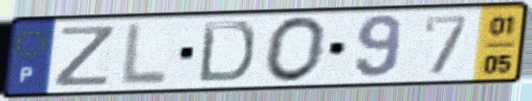7: (420, 12, 470, 78)
9: (353, 12, 404, 82)
D: (194, 19, 258, 85)
L: (116, 20, 173, 88)
O: (263, 14, 331, 85)
Z: (50, 24, 120, 89)
